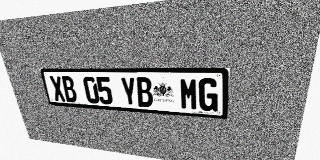0: (82, 76, 100, 104)
5: (96, 77, 114, 105)
B: (135, 77, 154, 107), (60, 76, 78, 102)
G: (199, 78, 219, 112)
M: (179, 78, 198, 110)
X: (49, 76, 66, 102)
Y: (120, 77, 138, 106)
